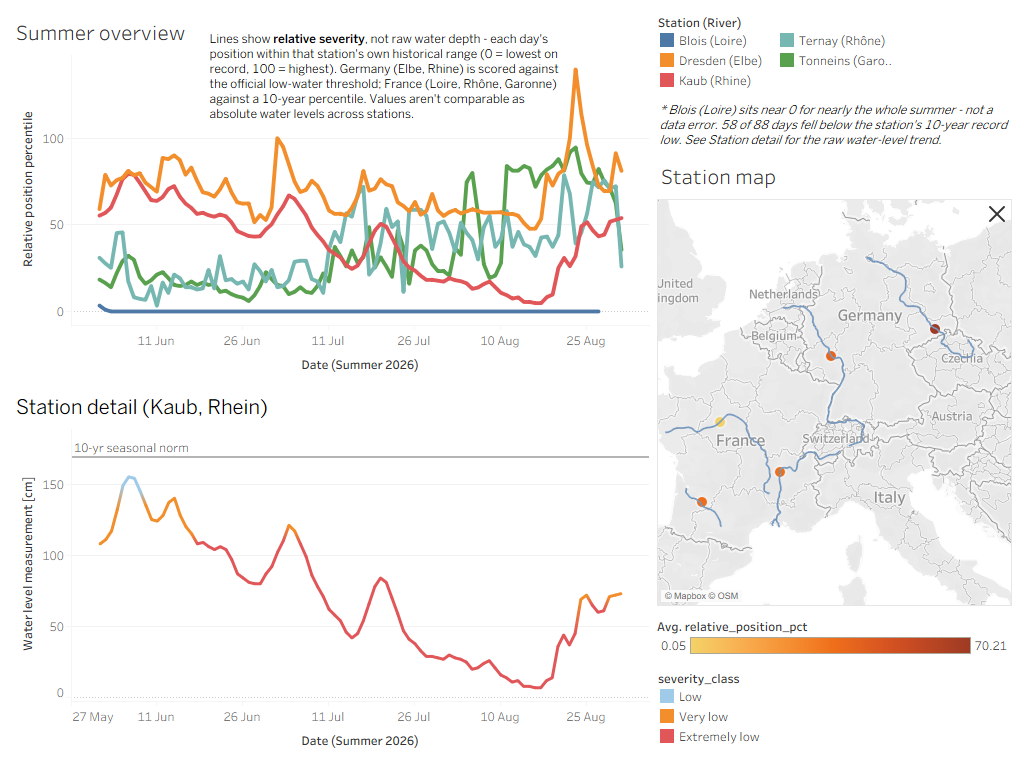

This screenshot's page, from the dashboard's own definition file:
{"tool":"tableau","page":{"name":"Overall","canvas":[1024,768],"ordinal":0},"visuals":[{"type":"text","box":[207,6,368,145]},{"type":"worksheet","title":"Summer overview","mark":"Line","rows":["relative_position_pct"],"cols":["date"],"box":[8,8,645,376]},{"type":"legend","title":"Summer overview","param":"[federated.1kkefuv1phx1bi12ys0ko0iin6ix].[none:Calculation_0720775307001856:nk]","box":[653,8,363,91]},{"type":"text","box":[653,99,363,53]},{"type":"worksheet","title":"Station map","mark":"Automatic","rows":["latitude"],"cols":["longitude"],"box":[653,152,363,458]},{"type":"dashboard-object","box":[985,202,24,24]},{"type":"worksheet","title":"Station detail (Kaub, Rhein)","mark":"Line","rows":["value"],"cols":["date"],"box":[8,384,645,376]},{"type":"legend","title":"Station map","param":"[federated.1kkefuv1phx1bi12ys0ko0iin6ix].[avg:relative_position_pct:qk]","box":[653,610,363,54]},{"type":"legend","title":"Station detail (Kaub, Rhein)","param":"[federated.1kkefuv1phx1bi12ys0ko0iin6ix].[attr:severity_class:nk]","box":[653,664,363,96]}]}

Visuals, with their boxes in screenshot pixels (x1, y1, x2, y2), scaled from the page's 1024x768 canvas onto the 1024x768 screenshot:
text: rect(207, 6, 575, 151)
"Summer overview" worksheet (Line marks): rect(8, 8, 653, 384)
"Summer overview" legend: rect(653, 8, 1016, 99)
text: rect(653, 99, 1016, 152)
"Station map" worksheet: rect(653, 152, 1016, 610)
dashboard-object: rect(985, 202, 1009, 226)
"Station detail (Kaub, Rhein)" worksheet (Line marks): rect(8, 384, 653, 760)
"Station map" legend: rect(653, 610, 1016, 664)
"Station detail (Kaub, Rhein)" legend: rect(653, 664, 1016, 760)
